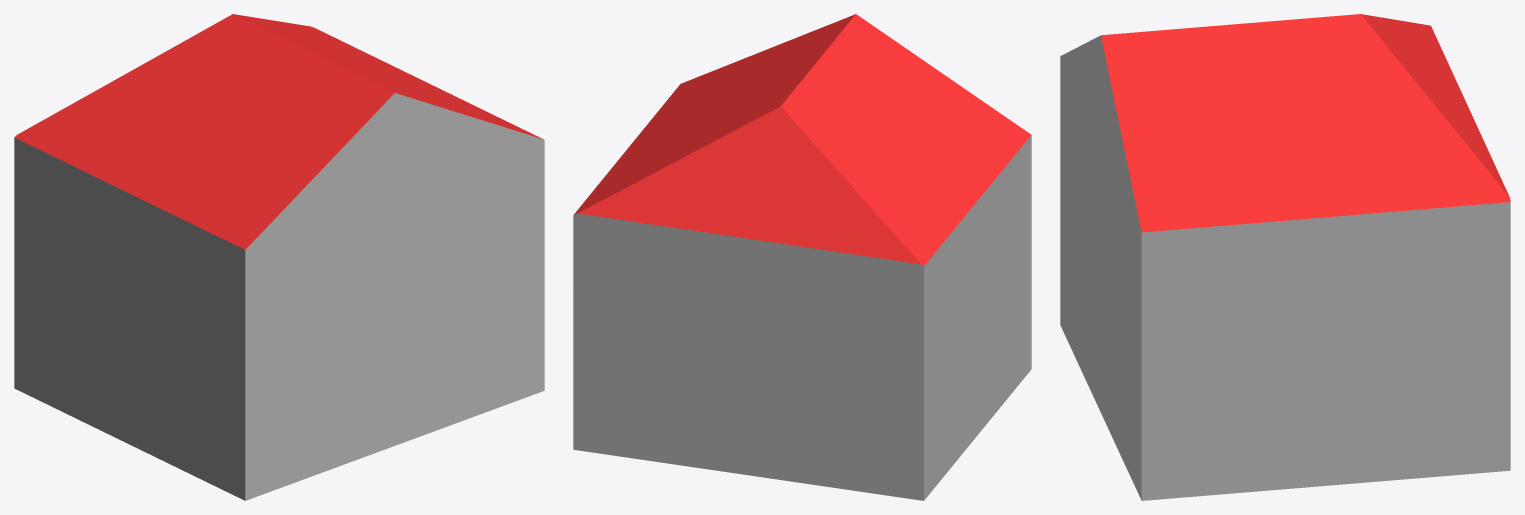
The model's file is DEBY_LOD2_4779830.dae.
3 renders of one model, left to right at view 1: azimuth 30°, elevation 25°; view 2: azimuth 150°, elevation 25°; view 3: azimuth 270°, elevation 25°, orthographic. The views are drawn at different scales.
Bounding box in the file's own units: 4.88 × 4.5 × 4.16.
